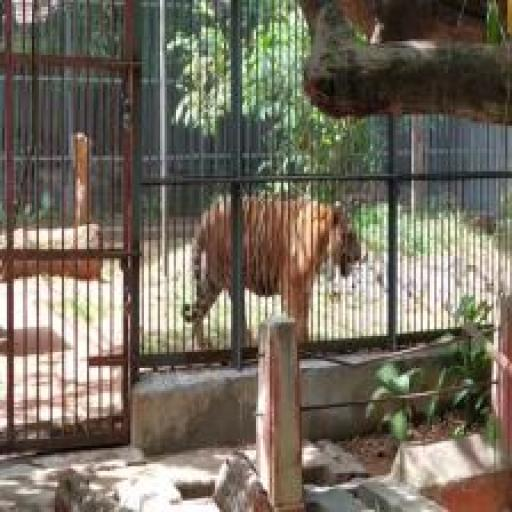Tiger: (165, 142, 370, 376)
